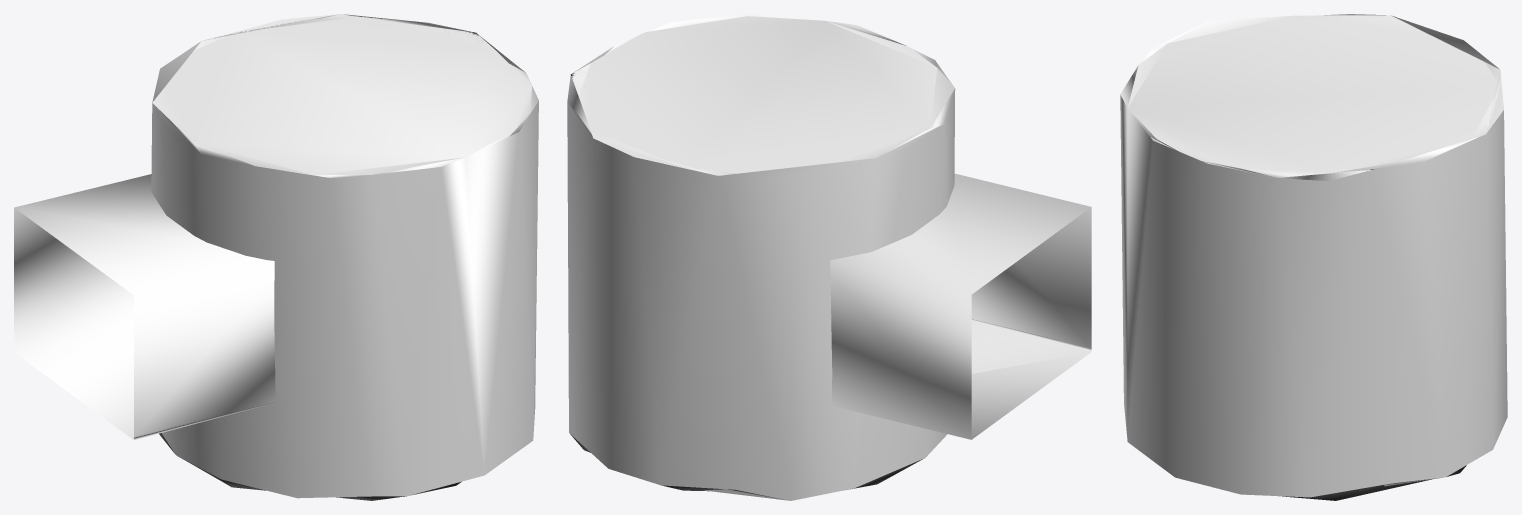
Rendered from WallLight0001.obj.
3 views of the same model, side by side, from view 1: azimuth 30°, elevation 25°; view 2: azimuth 150°, elevation 25°; view 3: azimuth 270°, elevation 25° (orthographic).
Bounding box in the file's own units: 0.139 × 0.1 × 0.106.
1 material, 1 textured.
